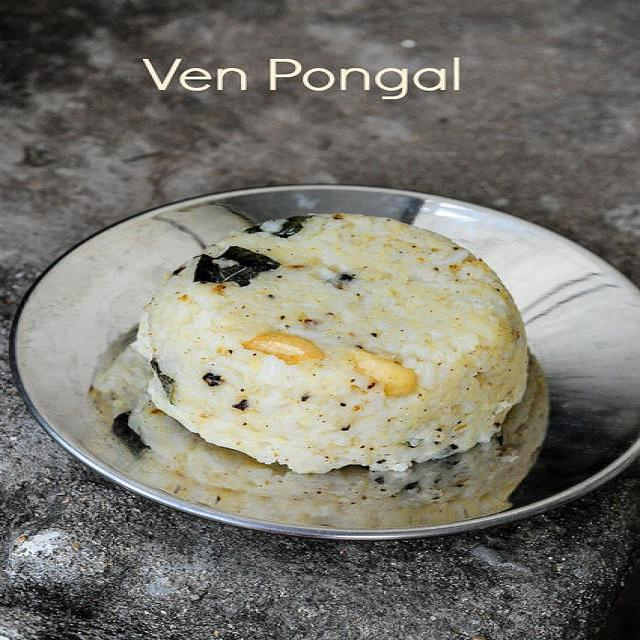khara pongal: (115, 198, 562, 486)
